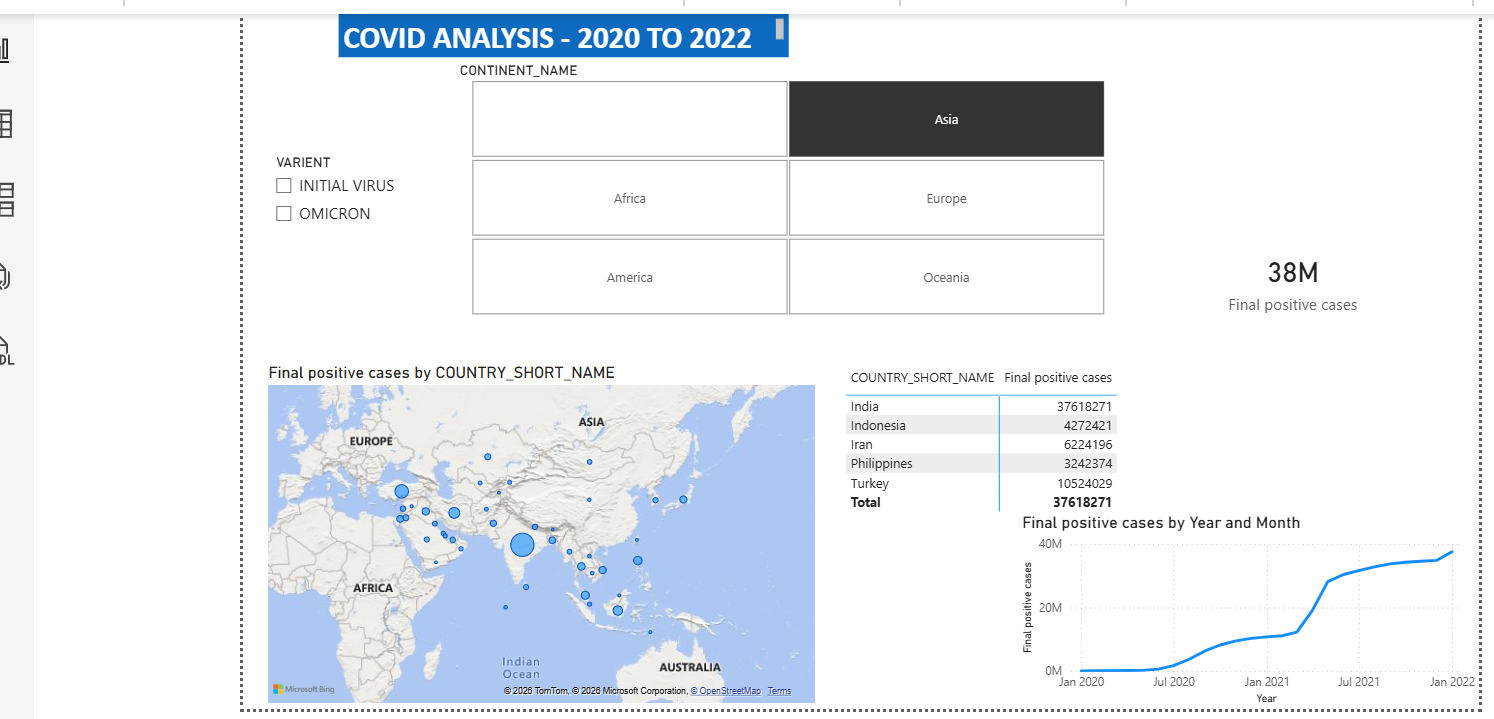

Layout of this report page (visuals, bound fields, positions):
{"tool":"powerbi","page":{"name":"Page 1","canvas":[1280,720],"ordinal":0},"visuals":[{"type":"slicer","fields":{"Values":["COVID-19 Activity.VARIENT"]},"box":[21.2,139.6,224.5,179],"z":0},{"type":"slicer","fields":{"Values":["COVID-19 Activity.CONTINENT_NAME"]},"box":[212.4,45.5,703.9,273.1],"z":1000},{"type":"card","fields":{"Values":["COVID-19 Activity.Final positive cases"]},"box":[949.7,139.6,276.1,273.1],"z":2000},{"type":"map","fields":{"Category":["COVID-19 Activity.COUNTRY_SHORT_NAME"],"Size":["COVID-19 Activity.Final positive cases"]},"box":[21.2,361.1,576.5,358],"z":3000},{"type":"pivotTable","fields":{"Rows":["COVID-19 Activity.COUNTRY_SHORT_NAME"],"Values":["COVID-19 Activity.Final positive cases"]},"box":[619,361.1,297.4,224.5],"z":4000},{"type":"lineChart","fields":{"Category":["COVID-19 Activity.REPORT_DATE.Variation.Date Hierarchy.Year","COVID-19 Activity.REPORT_DATE.Variation.Date Hierarchy.Month"],"Y":["COVID-19 Activity.Final positive cases"]},"box":[801,515.8,479.4,203.3],"z":5000},{"type":"textbox","box":[99,0,466,44.7],"z":6000}]}

Visuals, with their boxes on the page's 1280x720 design canvas (x1, y1, x2, y2). These are canvas units, not pixel positions in the 1494x719 screenshot, which may show the page scaled, cropped or inside an application window:
slicer - COVID-19 Activity.VARIENT: box(21, 140, 246, 319)
slicer - COVID-19 Activity.CONTINENT_NAME: box(212, 46, 916, 319)
card - COVID-19 Activity.Final positive cases: box(950, 140, 1226, 413)
map - COVID-19 Activity.COUNTRY_SHORT_NAME x COVID-19 Activity.Final positive cases: box(21, 361, 598, 719)
pivotTable - COVID-19 Activity.COUNTRY_SHORT_NAME x COVID-19 Activity.Final positive cases: box(619, 361, 916, 586)
lineChart - COVID-19 Activity.REPORT_DATE.Variation.Date Hierarchy.Year x COVID-19 Activity.REPORT_DATE.Variation.Date Hierarchy.Month: box(801, 516, 1280, 719)
textbox: box(99, 0, 565, 45)
